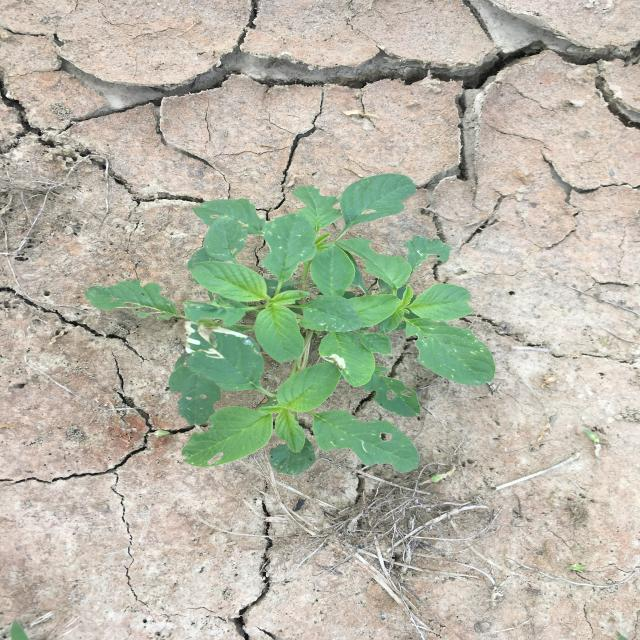PalmerAmaranth: (85, 173, 496, 476)
